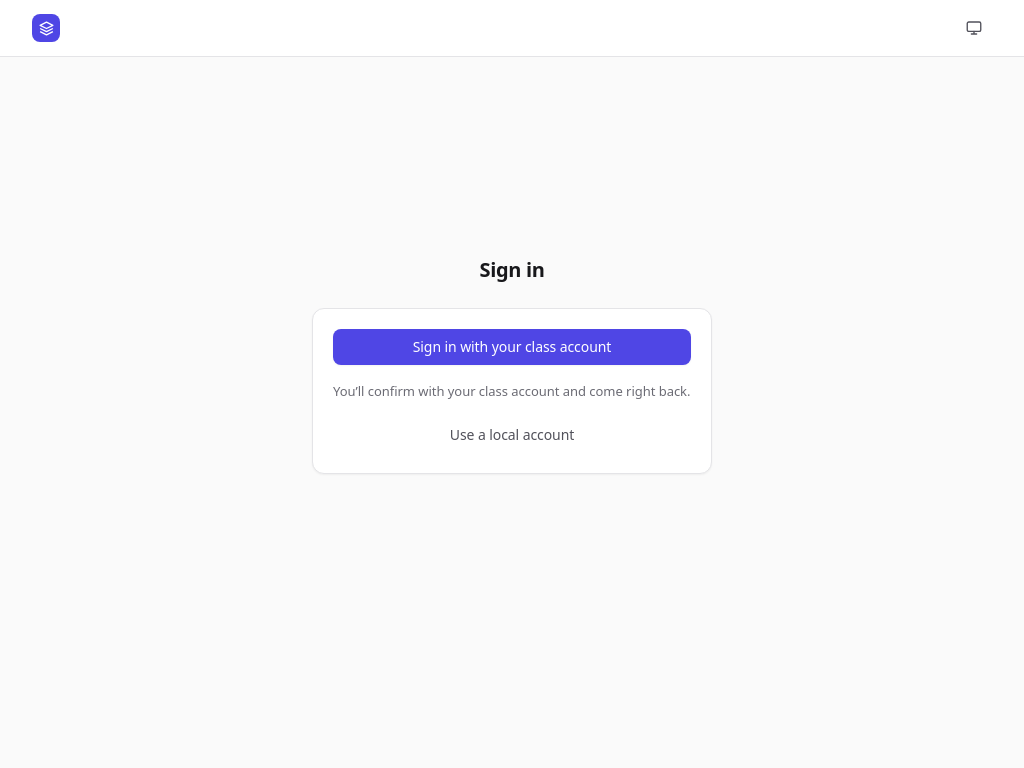
it: sign-in page › signs in local accounts with the local method only
Click the button "Use a local account".
click(512, 435)  # box [333, 417, 691, 453]
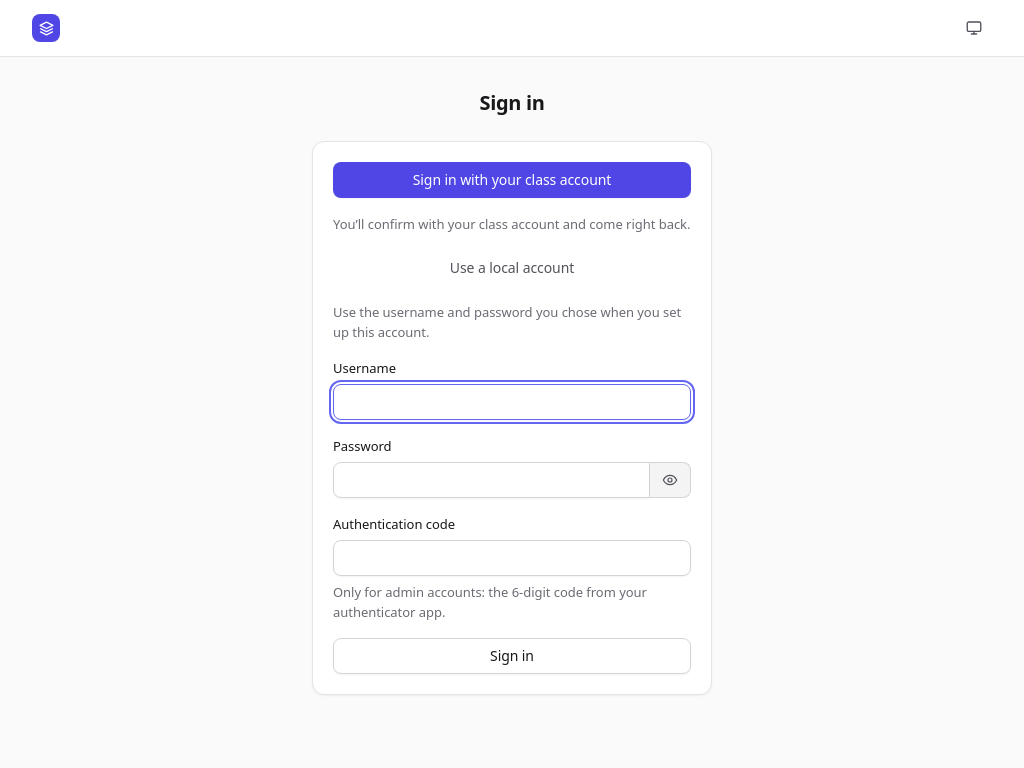
Type "admin" into the field labelled "Username".
click(512, 402); type("admin")  # box [333, 384, 691, 420]
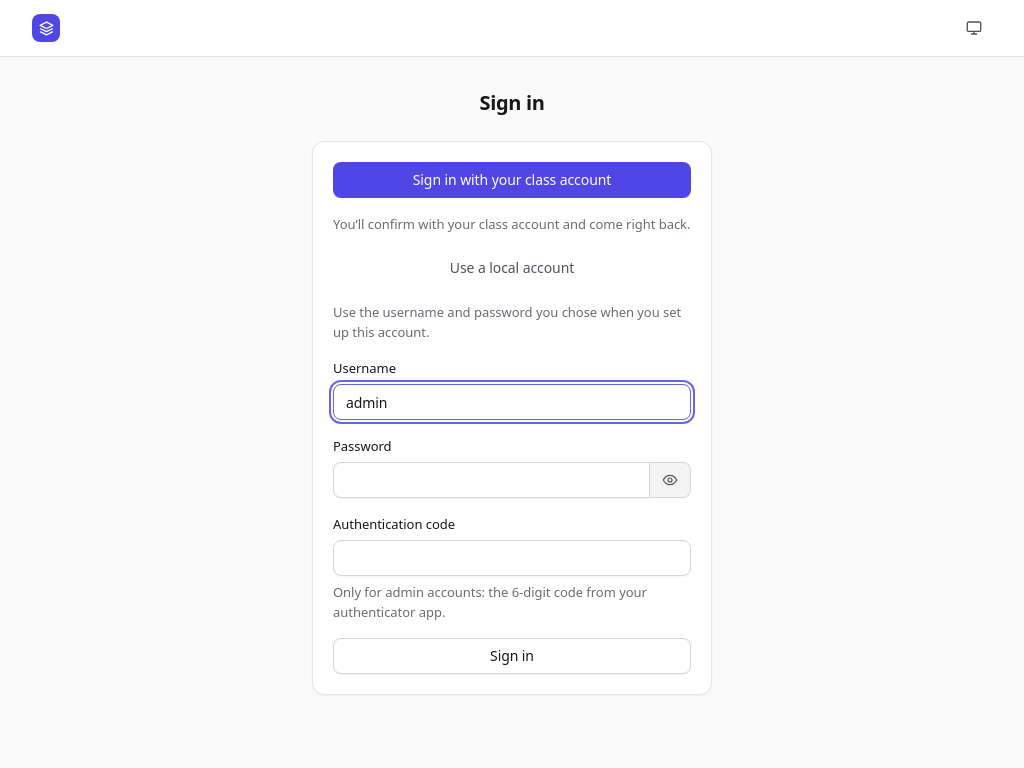
Type "pw" into the password field labelled "Password".
click(492, 480); type("pw")  # box [333, 462, 650, 498]
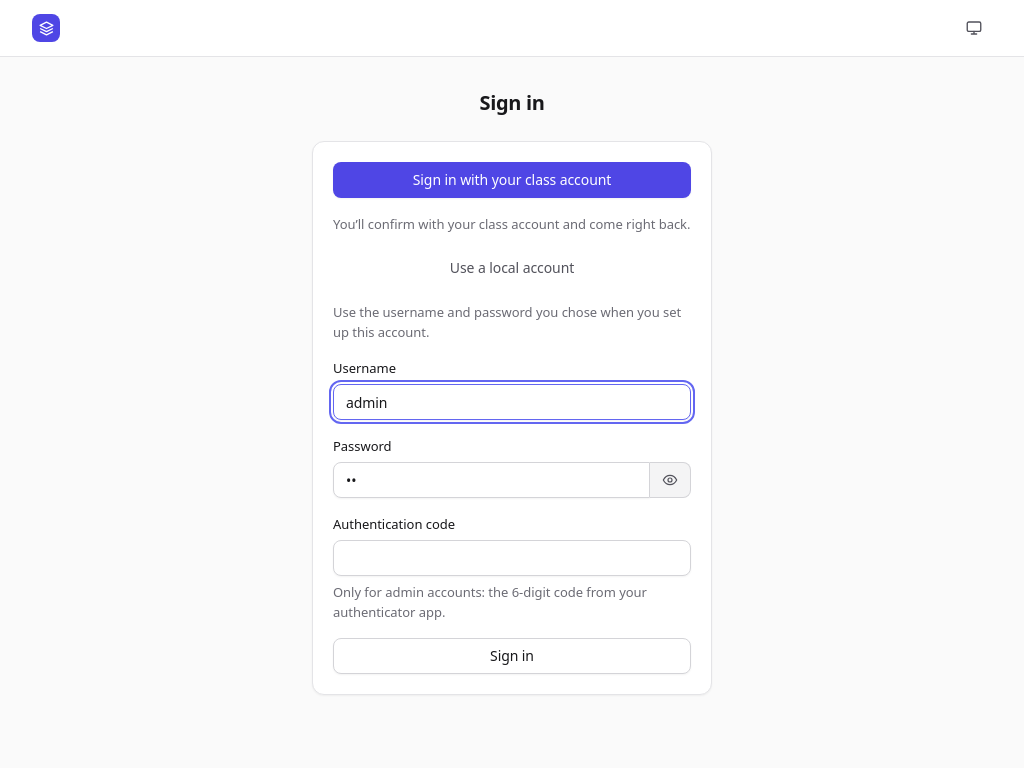
Expected: the button "Sign in" is enabled
Click the button "Sign in".
click(512, 656)  # box [333, 638, 691, 674]
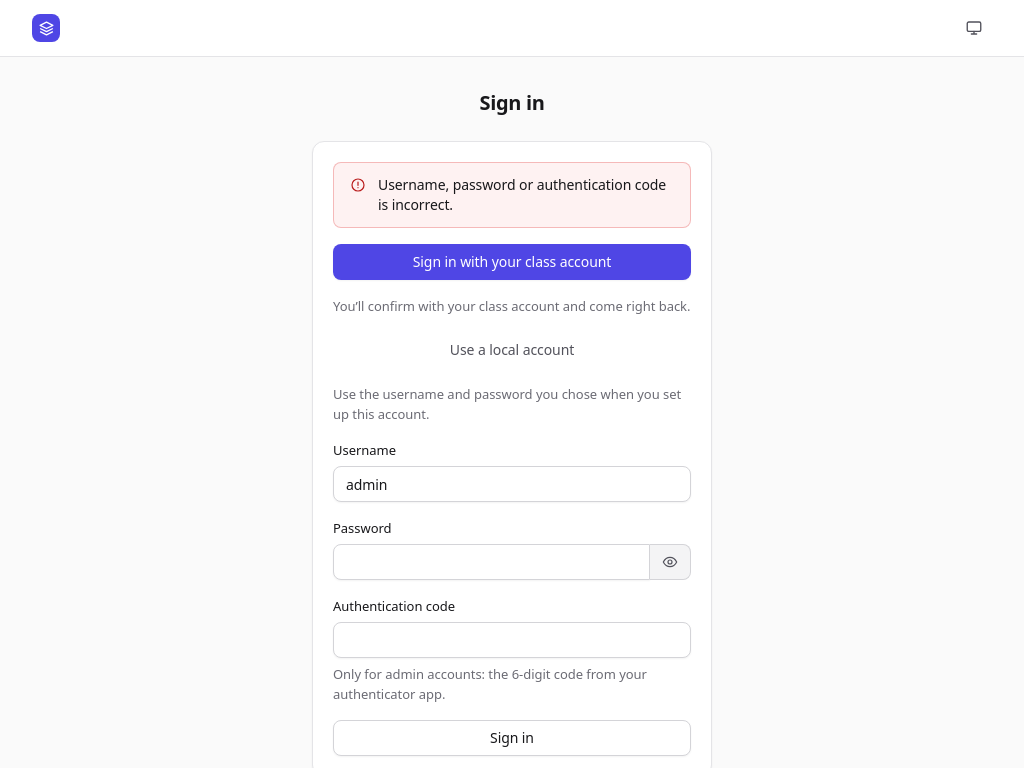
Expected: the message reads "Username, password or authentication code is incorrect.", [378, 175, 666, 214]
